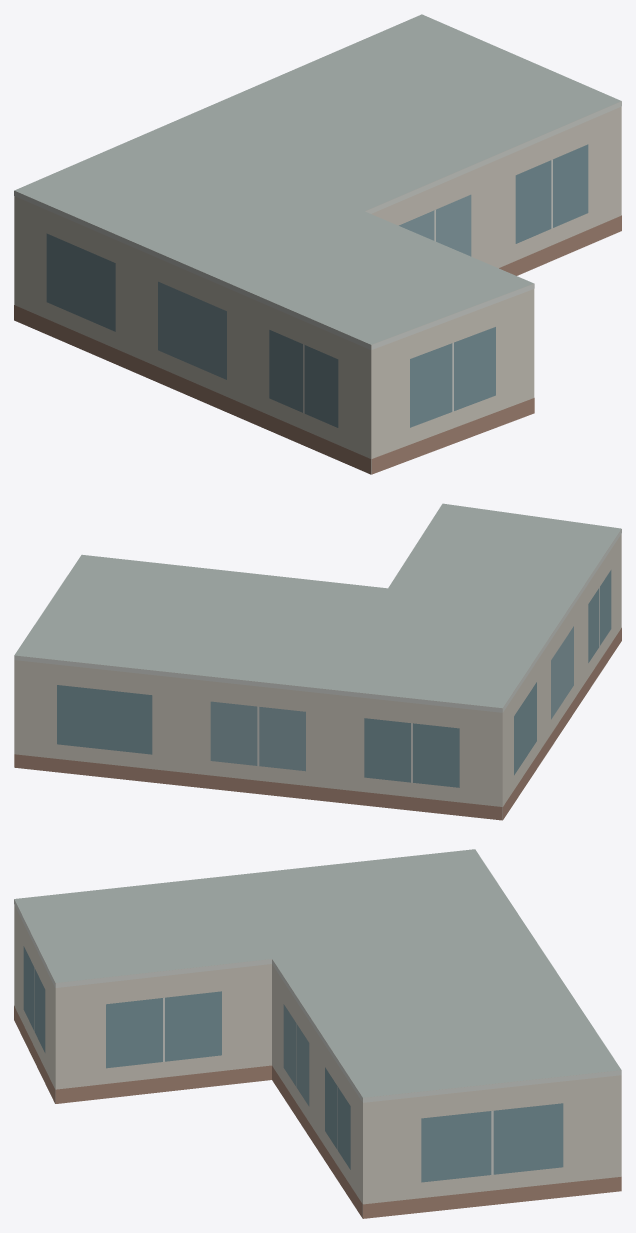
Rendered from survey-upis-32464340.glb.
The picture shows the model from 3 angles, top to bottom: view 1: azimuth 30°, elevation 25°; view 2: azimuth 150°, elevation 25°; view 3: azimuth 270°, elevation 25°; orthographic projection. The views are drawn at different scales.
Visible parts, largest first — view 1: survey-upis-32464340.tmp; view 2: survey-upis-32464340.tmp; view 3: survey-upis-32464340.tmp.
Part boxes in pixels (x1=…): survey-upis-32464340.tmp: x1=14, y1=14, x2=621, y2=474; survey-upis-32464340.tmp: x1=14, y1=503, x2=621, y2=820; survey-upis-32464340.tmp: x1=14, y1=849, x2=621, y2=1218.
Size of the model in its own units: 13.48 by 3.05 by 13.9.
